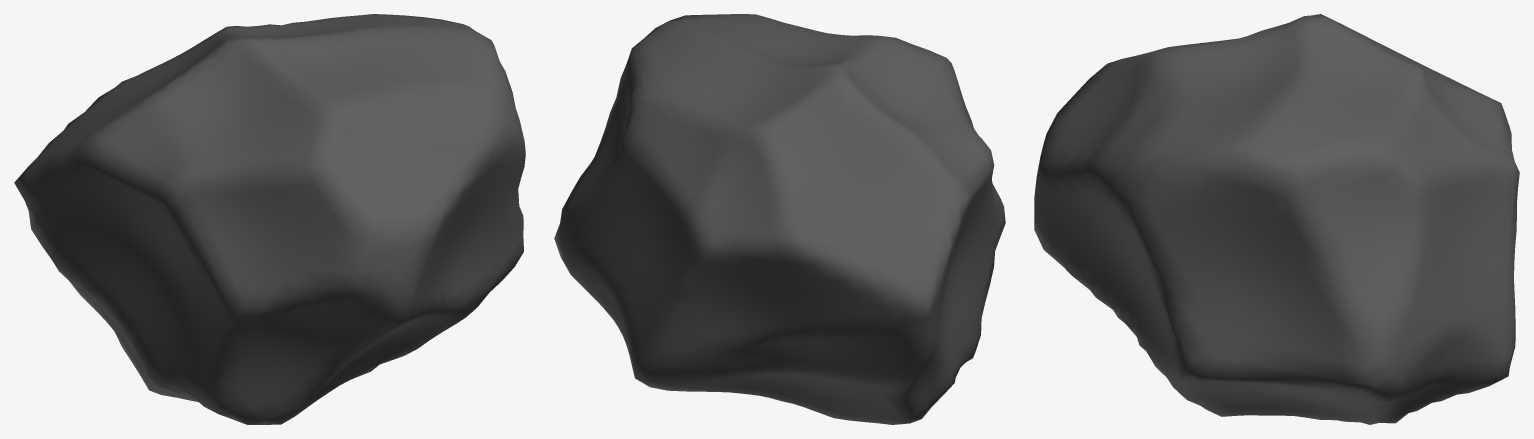
File: Sem4_Environment_Stein02_JT.fbx
3 renders of one model, left to right at view 1: azimuth 30°, elevation 25°; view 2: azimuth 150°, elevation 25°; view 3: azimuth 270°, elevation 25°, orthographic. The views are drawn at different scales.
Parts seen in each view (by area): view 1: Stein02_JT; view 2: Stein02_JT; view 3: Stein02_JT.
Part boxes in pixels (bbox=[...]): Stein02_JT: bbox=[14, 14, 525, 424]; Stein02_JT: bbox=[554, 14, 1005, 424]; Stein02_JT: bbox=[1034, 14, 1519, 424].
Size of the model in its own units: 37.28 by 28.79 by 34.45.
